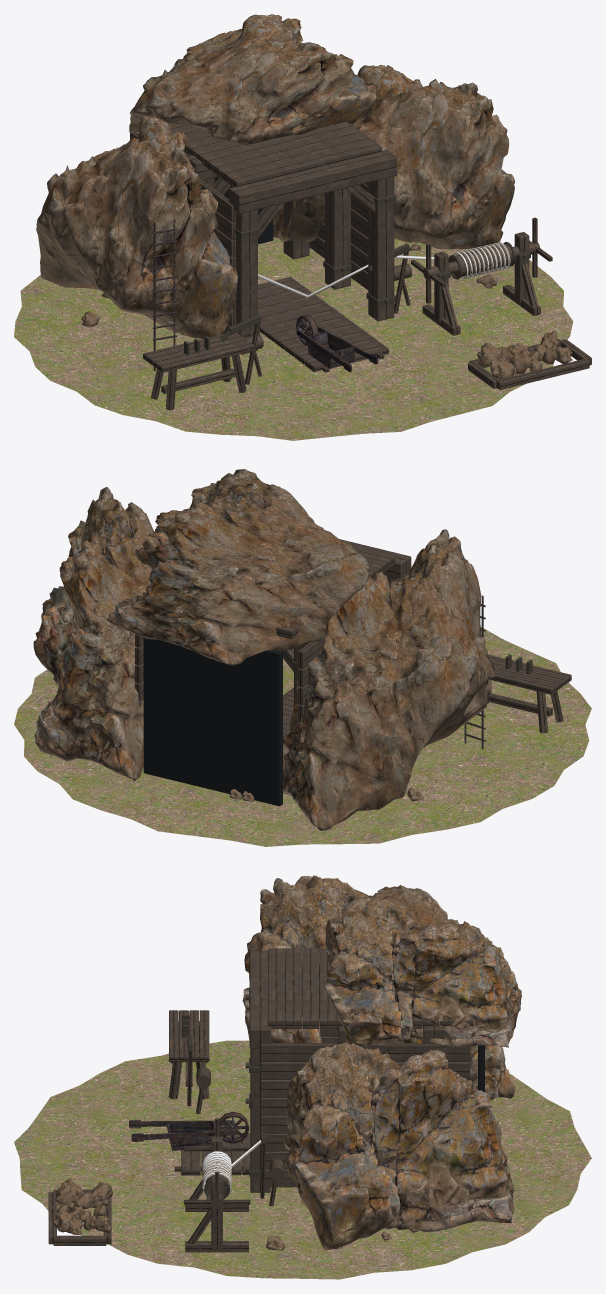
File: building-mine.glb
The picture shows the model from 3 angles, top to bottom: view 1: azimuth 30°, elevation 25°; view 2: azimuth 150°, elevation 25°; view 3: azimuth 270°, elevation 25°; orthographic projection. The views are drawn at different scales.
Parts seen in each view (by area): view 1: TimberShoredMine; view 2: TimberShoredMine; view 3: TimberShoredMine.
Boxes of the visible parts, box(x1,y1,x2,y2) form: TimberShoredMine: box(14, 14, 591, 440); TimberShoredMine: box(14, 469, 591, 846); TimberShoredMine: box(14, 875, 591, 1279).
Bounding box in the file's own units: 9.1 × 4.56 × 9.15.
Materials: 8 (6 with a texture image).
